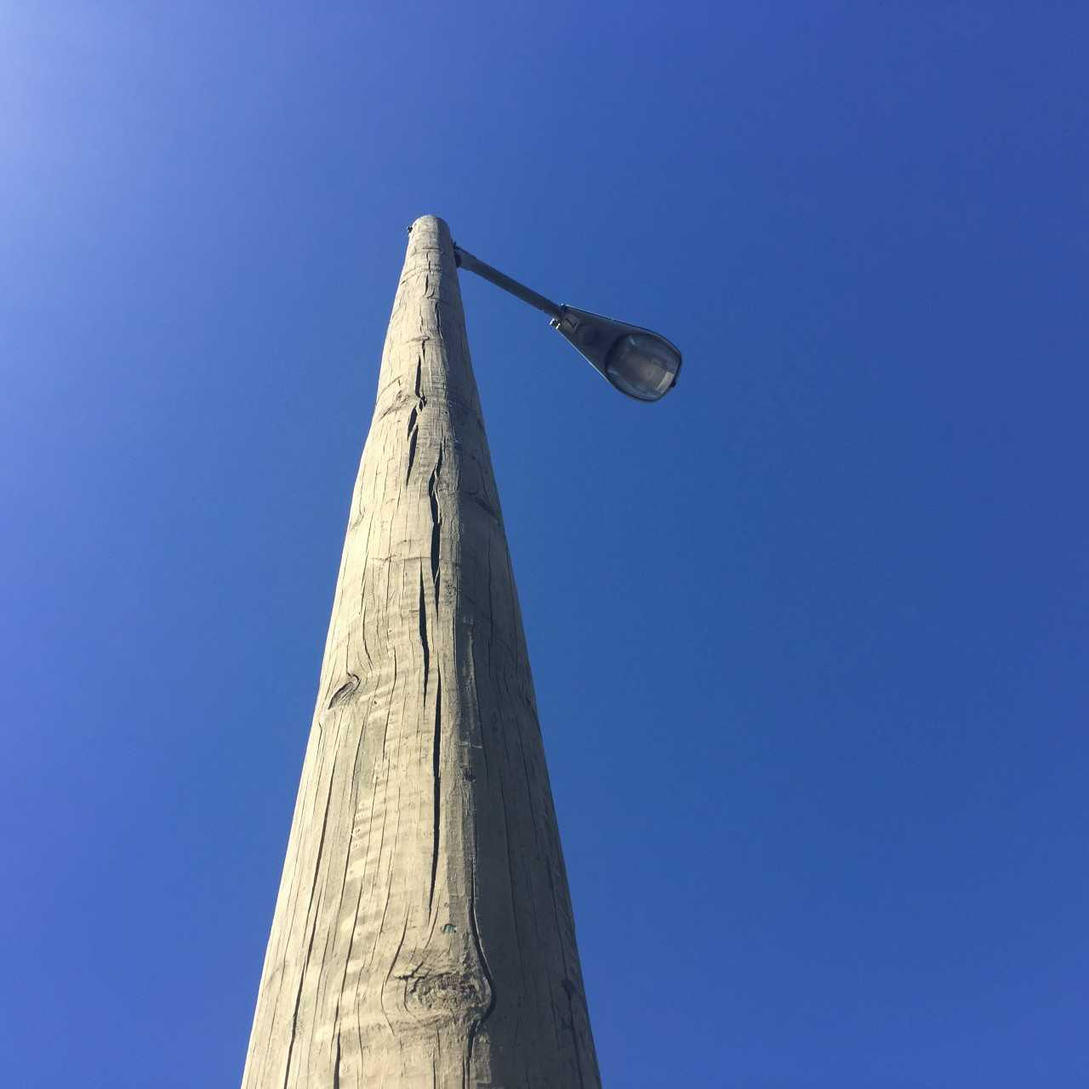light_pole: (252, 188, 584, 1089)
